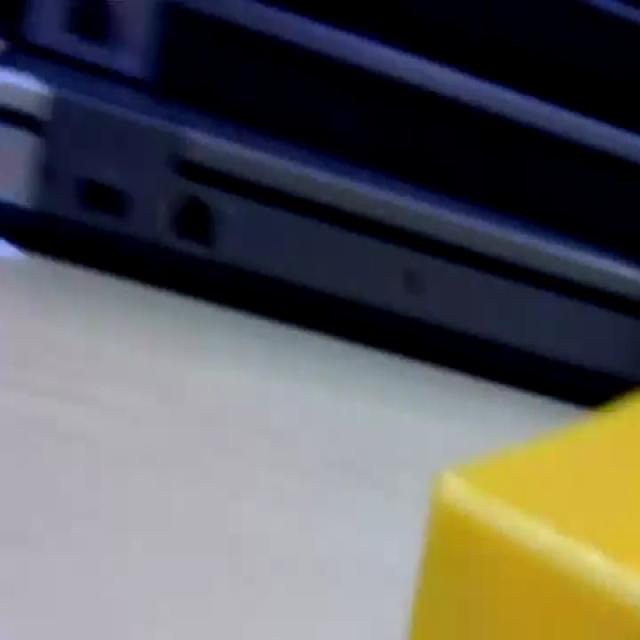yellow_block: (408, 388, 638, 637)
